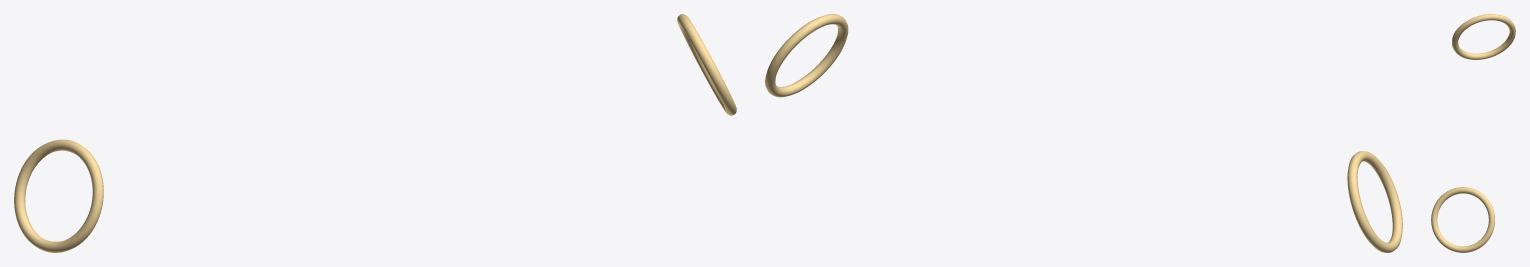
The model's file is earrings-hoops.glb.
The picture shows the model from 3 angles, left to right: view 1: azimuth 30°, elevation 25°; view 2: azimuth 150°, elevation 25°; view 3: azimuth 270°, elevation 25°; orthographic projection. The views are drawn at different scales.
Visible parts, largest first — view 1: earrings; view 2: earrings; view 3: earrings.
Part boxes in pixels (x1,y1,x2,y2): earrings: (14, 14, 736, 252); earrings: (765, 14, 1402, 252); earrings: (1431, 14, 1515, 252).
Bounding box in the file's own units: 0.9491 × 0.1385 × 0.1768.
